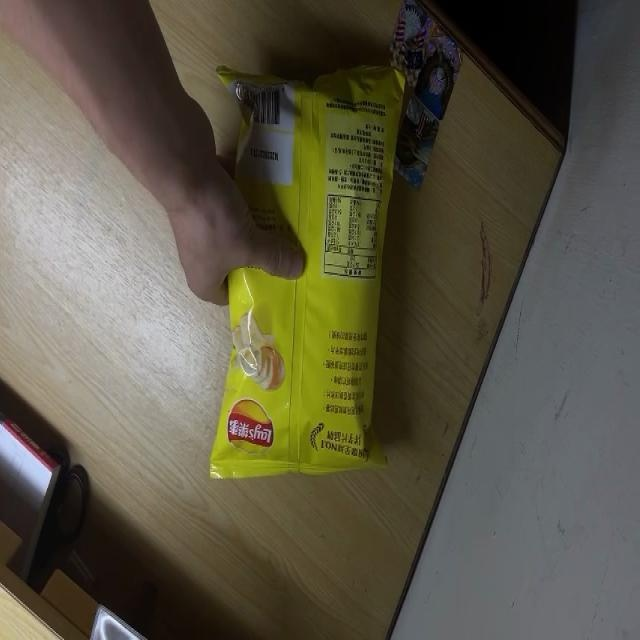Lay-s-original: (208, 62, 407, 481)
